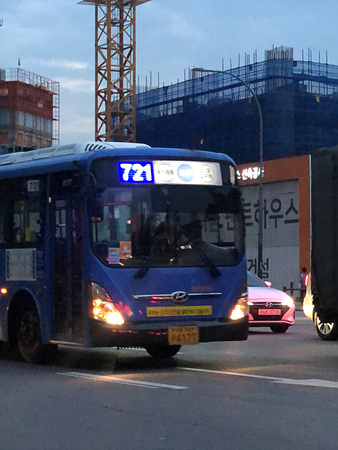bnum: (120, 161, 154, 182)
